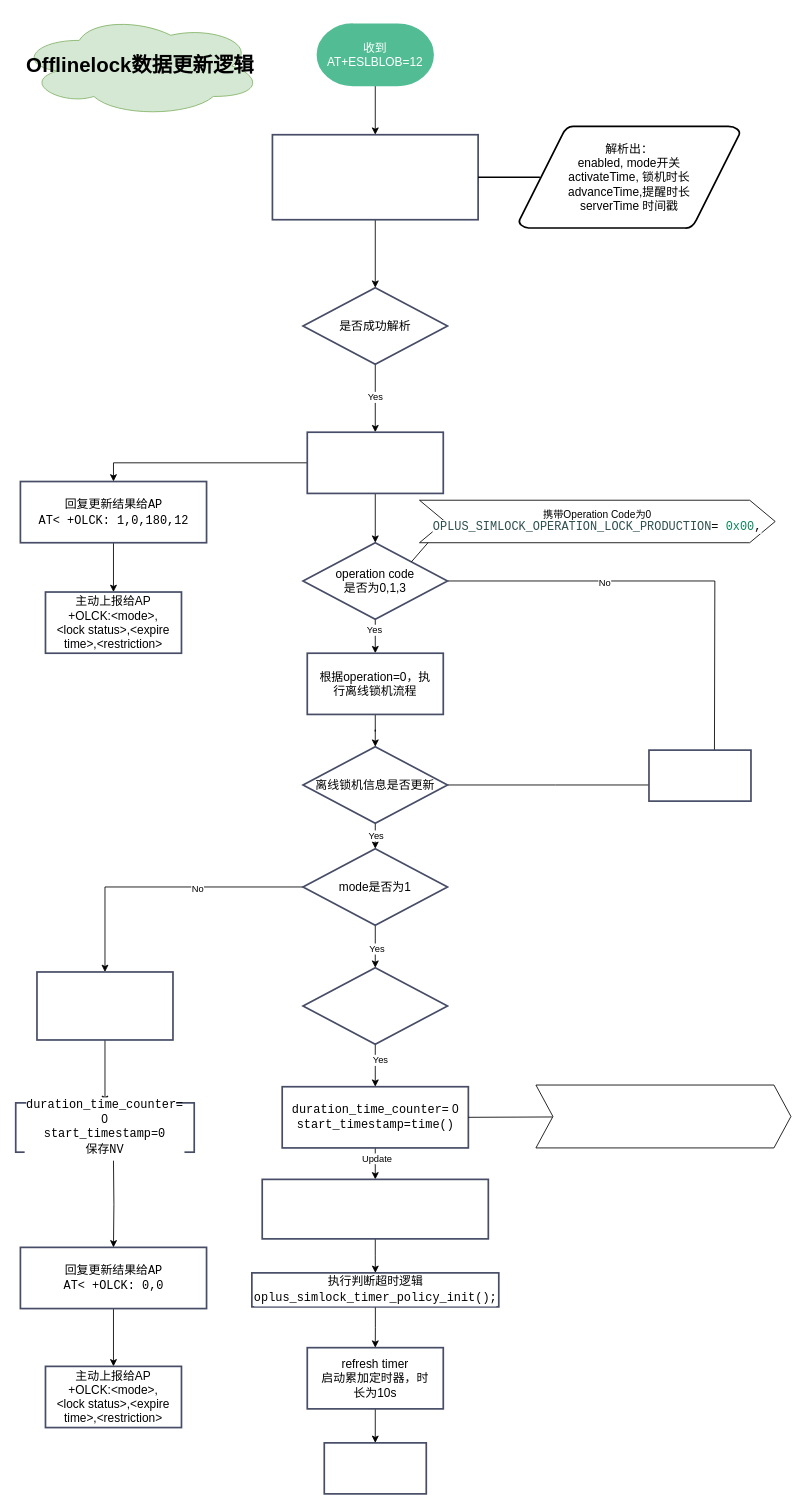
This 806x1510 diagram has some shape labels left out. The box of each missing label's shape, as (x1, y1, x2, y2) in pixels:
activateTime和更新之前的activeTime是否不同: (302, 966, 448, 1045)
NV保存的数据： duration_time_counter ：已用时长 start_timestamp:收到离线锁机数据时间: (535, 1084, 791, 1148)
回复failed结果给AP: (648, 749, 751, 802)
开始计时: (323, 1442, 427, 1494)
更新realme锁卡数据NV oplus_simlock_timer_nv_update: (261, 1178, 489, 1239)
清除定时器: (36, 971, 173, 1040)
返回解析结果 success or failed: (306, 431, 444, 494)
验签，解密 Decode (需要比较收到ServerTime比保存的时间大，才认为是有效的更新): (271, 133, 479, 220)
